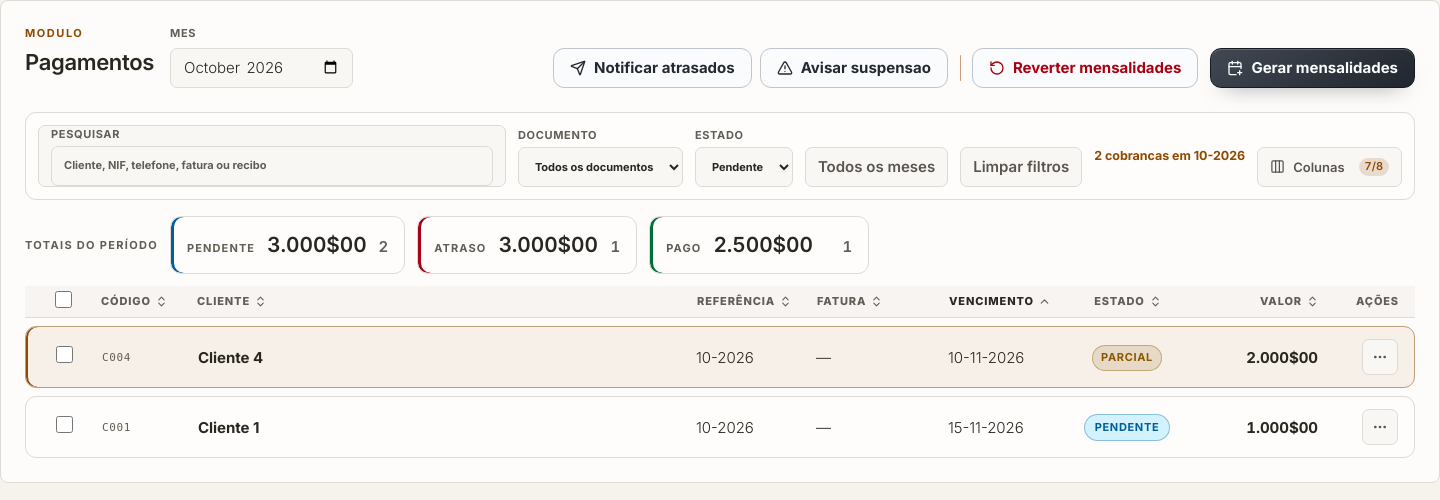
Test: totais de pagamentos › o pendente com a data passada conta como atraso, e o filtro devolve-o
Select "Atraso" in the dropdown labelled "Estado" at {"x": 744, "y": 167}, box [695, 147, 793, 187]
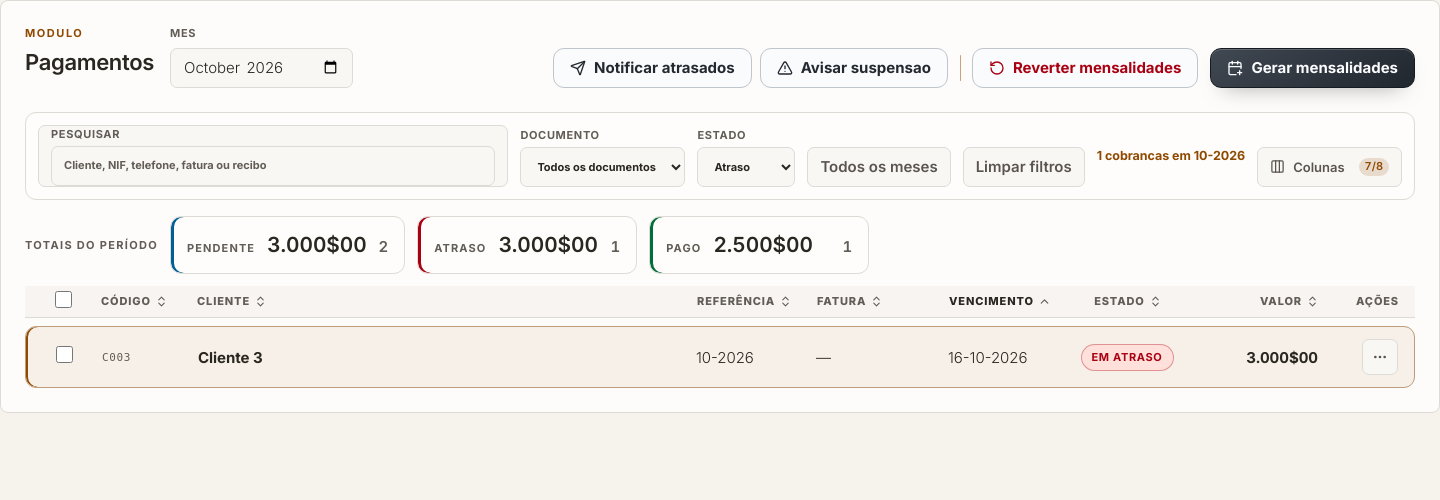
Check: the number of rows with class "data-table-row" is 1, box [25, 326, 1415, 388]
